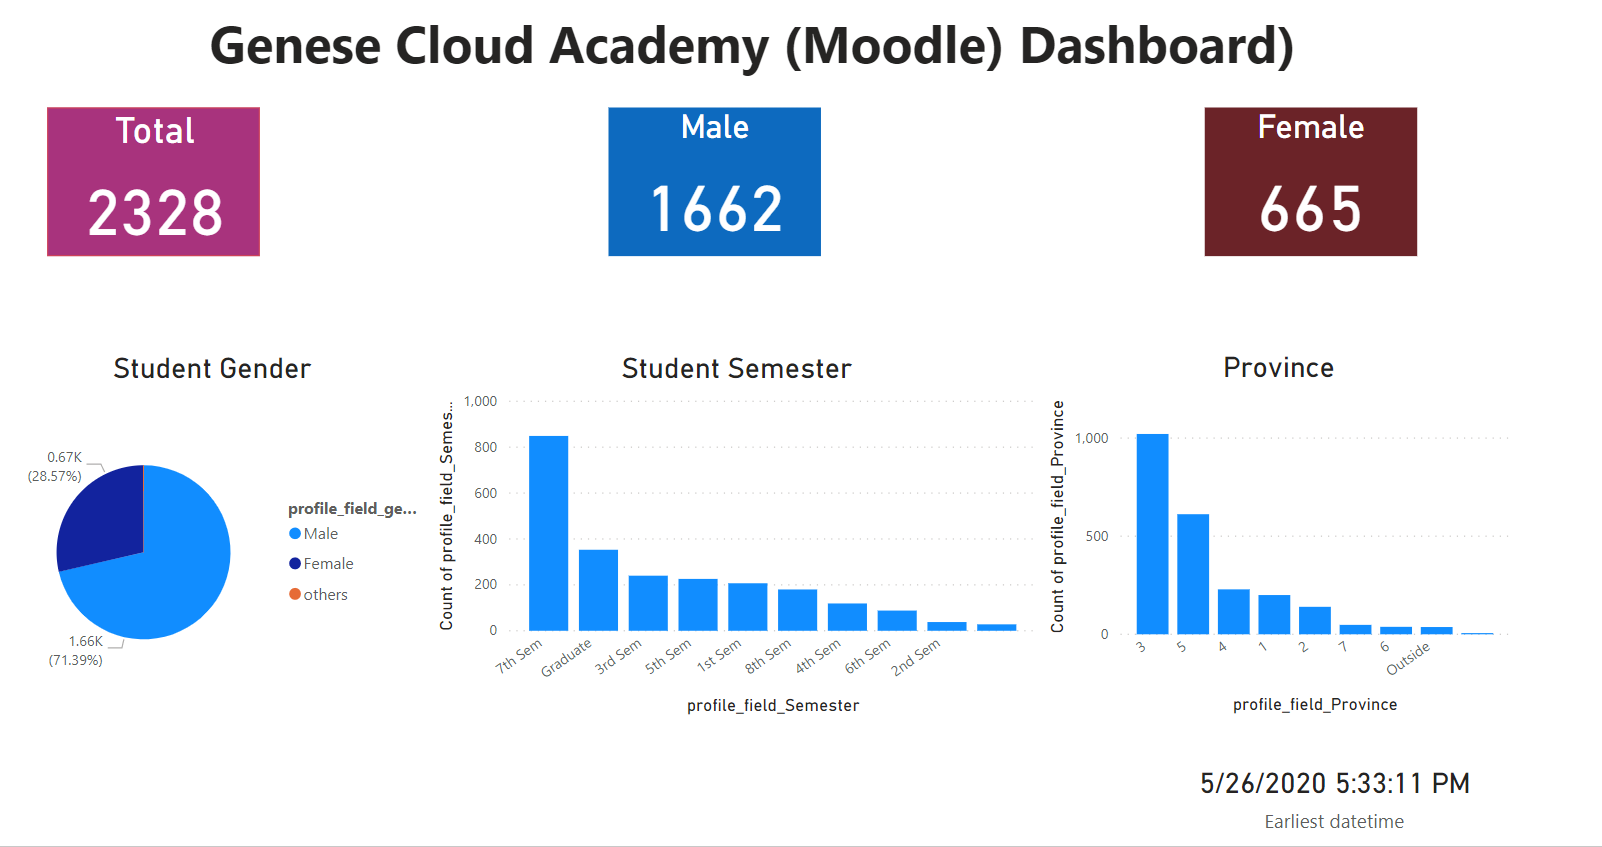

The dashboard page shown, as its layout file describes it:
{"tool":"powerbi","page":{"name":"Dashboard","canvas":[1280,720],"ordinal":0},"visuals":[{"type":"pieChart","title":"Student Gender","fields":{"Category":["user_latest.profile_field_gender1"],"Series":["user_latest.profile_field_gender1"],"Y":["CountNonNull(user_latest.profile_field_gender)"]},"box":[2.1,303.2,367.2,310.5],"z":0},{"type":"columnChart","title":"Student Semester","fields":{"Category":["user_latest.profile_field_Semester1"],"Y":["CountNonNull(user_latest.profile_field_Semester)1"]},"box":[369.4,303.2,513.4,310.5],"z":1000},{"type":"columnChart","title":"Province","fields":{"Category":["user_latest.profile_field_Province1"],"Y":["CountNonNull(user_latest.profile_field_Province)1"]},"box":[882.3,302.7,397.4,310.5],"z":2000},{"type":"card","title":"Total","fields":{"Values":["CountNonNull(user_latest.id)"]},"box":[47.1,98.8,178.8,124.4],"z":3000},{"type":"card","title":"Male","fields":{"Values":["CountNonNull(user_latest.profile_field_gender)"]},"box":[518.2,98.8,178.8,124.4],"z":4000},{"type":"card","title":"Female","fields":{"Values":["CountNonNull(user_latest.profile_field_gender)"]},"box":[1019.5,98.8,178.8,124.4],"z":5000},{"type":"textbox","box":[0,10.9,1279.3,72.5],"z":6000},{"type":"card","fields":{"Values":["Min(Kathmandu.datetime)"]},"box":[994.2,641.5,268.2,68.9],"z":7000}]}

Visuals, with their boxes on the page's 1280x720 design canvas (x1, y1, x2, y2). These are canvas units, not pixel positions in the 1602x847 screenshot, which may show the page scaled, cropped or inside an application window:
"Student Gender" pieChart: rect(2, 303, 369, 614)
"Student Semester" columnChart: rect(369, 303, 883, 614)
"Province" columnChart: rect(882, 303, 1280, 613)
"Total" card: rect(47, 99, 226, 223)
"Male" card: rect(518, 99, 697, 223)
"Female" card: rect(1020, 99, 1198, 223)
textbox: rect(0, 11, 1279, 83)
card - Min(Kathmandu.datetime): rect(994, 642, 1262, 710)
